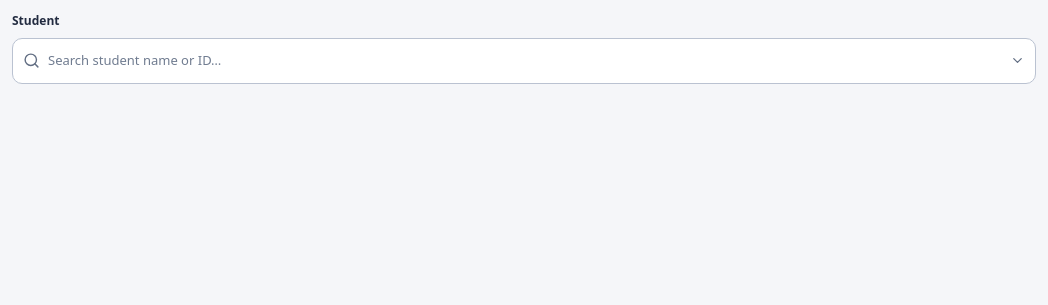
Test: returns focus from the paging control on Escape and reopens on input click
Later steps or results of the test are not shown.
What coordinates should you click on to do the following:
click the dropdown
I would click on:
 (525, 61)
Its box is [48,39,1002,82].
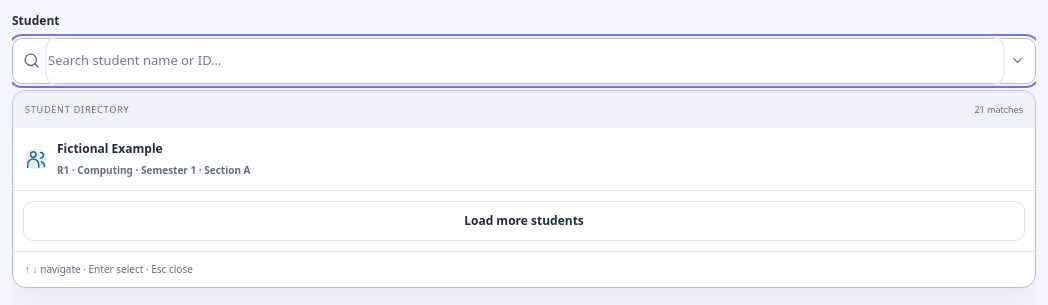
Expected: the option "Fictional Example R1 · Computing · Semester 1 · Section A" is shown, [13,128,1035,191]
